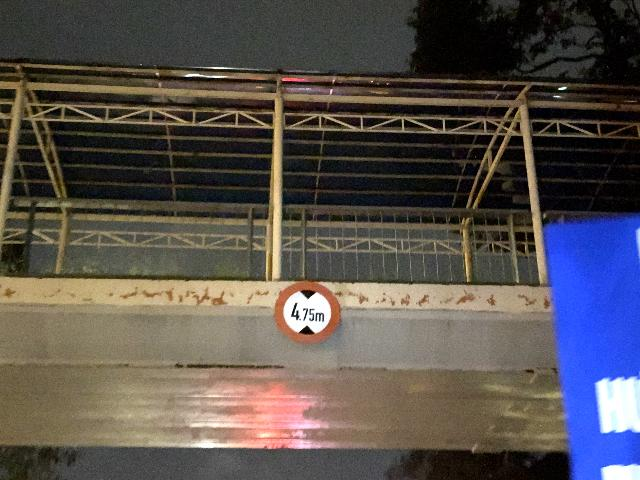han-che-chieu-cao: (274, 280, 341, 345)
